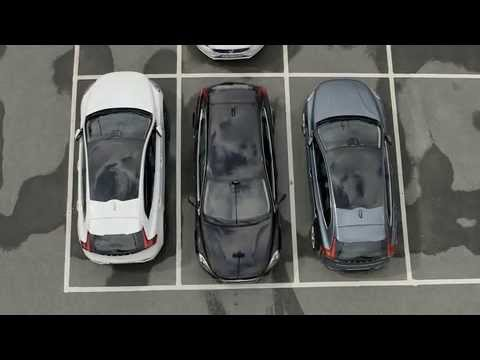car: (75, 70, 166, 267), (300, 80, 390, 273), (195, 81, 280, 281)
